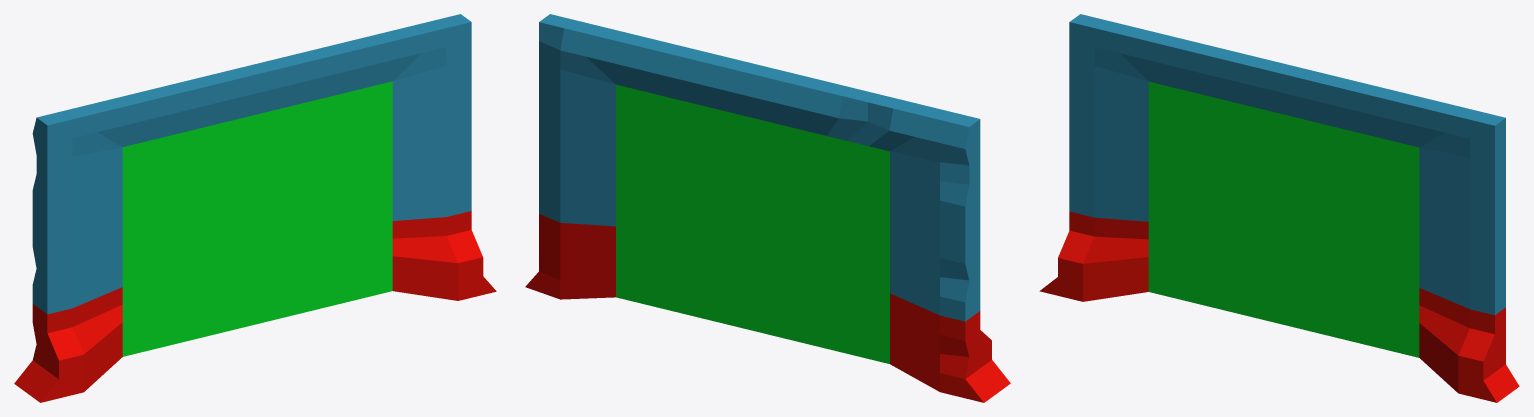
File: puerta.fbx
3 views of the same model, side by side, from view 1: azimuth 30°, elevation 25°; view 2: azimuth 150°, elevation 25°; view 3: azimuth 330°, elevation 25° (orthographic).
Parts seen in each view (by area): view 1: Cube; view 2: Cube; view 3: Cube.
Boxes of the visible parts, x1,y1,x2,y2 form: Cube: (14, 14, 496, 402); Cube: (525, 14, 1010, 402); Cube: (1039, 14, 1519, 402).
Bounding box in the file's own units: 16.91 × 1.69 × 9.37.
